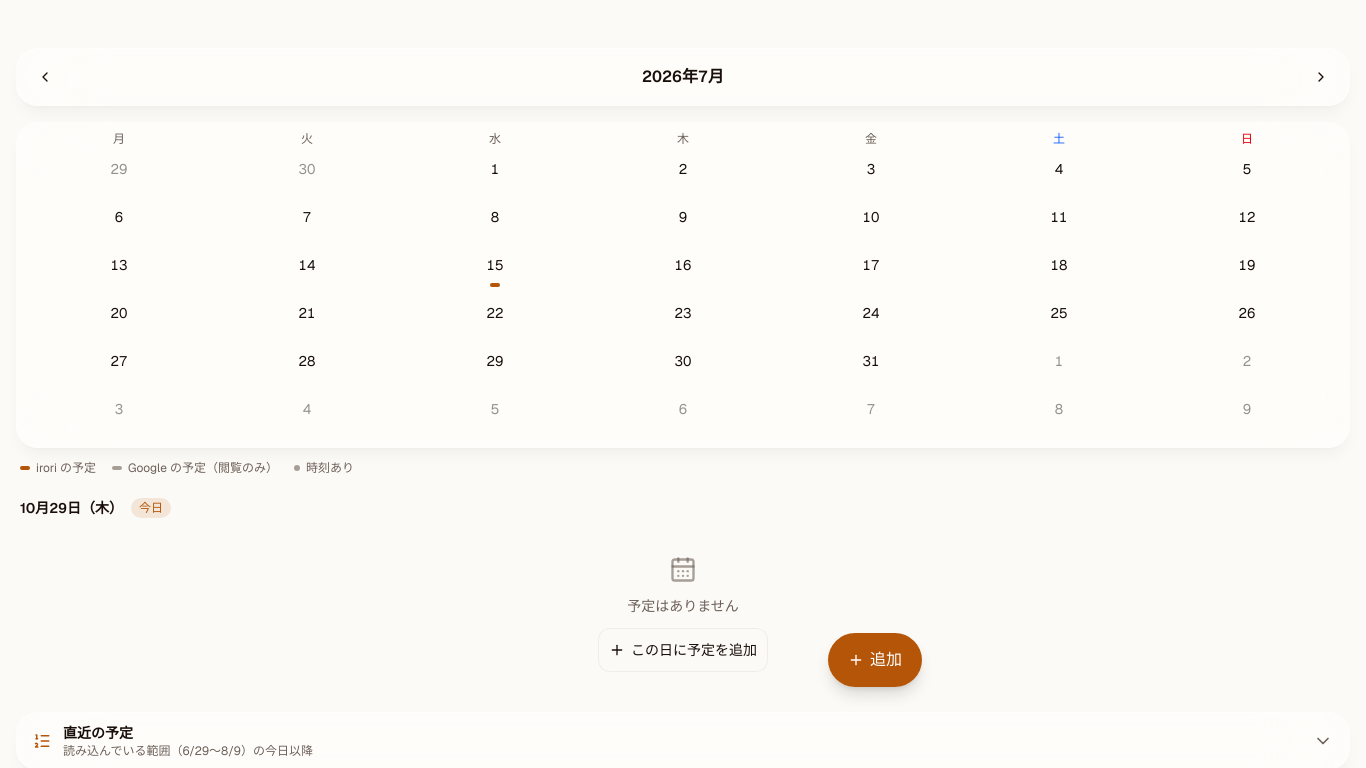
Scenario: CalendarView › 日をタップするとアジェンダがその日に更新される
This screenshot has width=1366, height=768.
Click the button "15": (495, 271) [401,247,589,295]
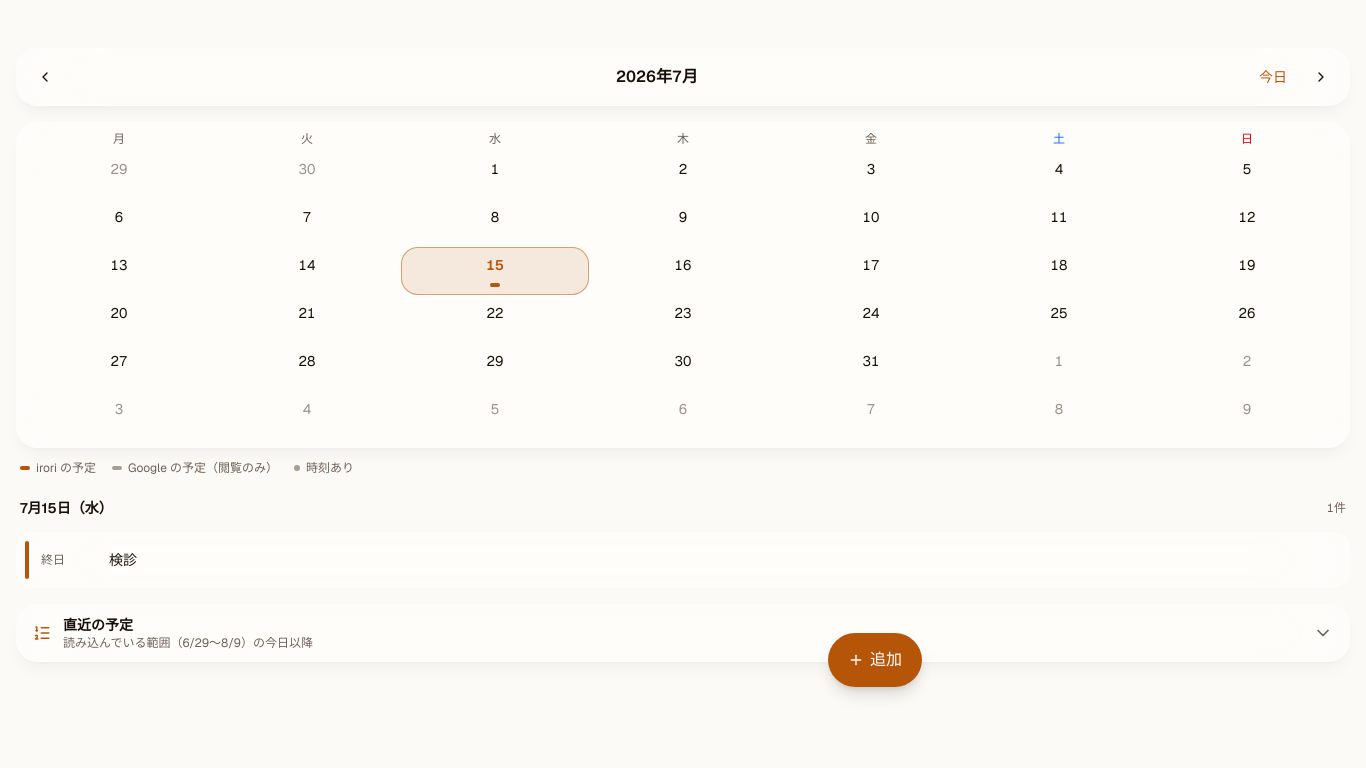
Expected: the text "検診" is shown, [109,551,137,569]
